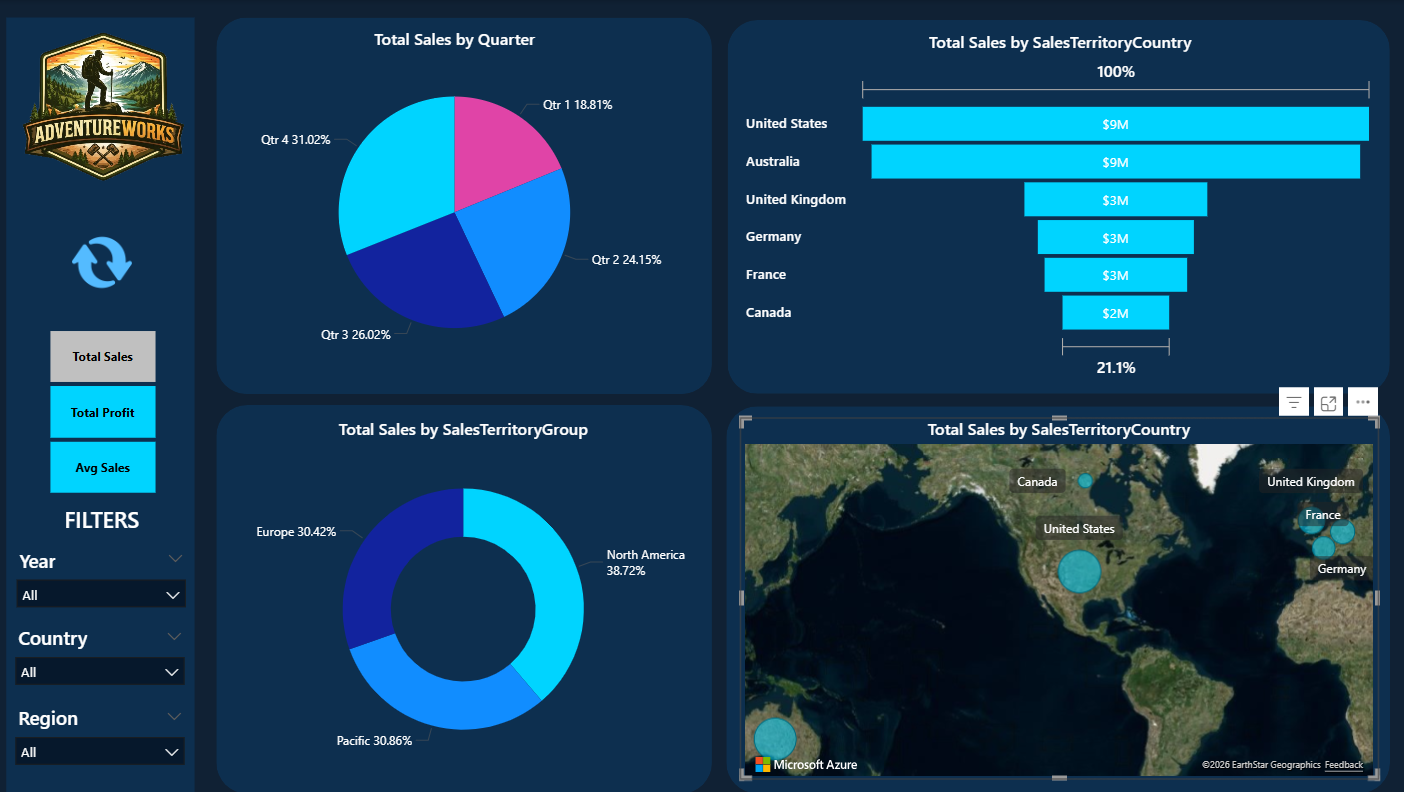

Layout of this report page (visuals, bound fields, positions):
{"tool":"powerbi","page":{"name":"Dahshboard_2","canvas":[1400,800],"ordinal":1},"visuals":[{"type":"shape","box":[218.5,17.4,490.6,372.7],"z":0},{"type":"shape","box":[218.5,400.8,490.6,384.7],"z":1000},{"type":"donutChart","fields":{"Y":["Sales.Total Sales"],"Category":["DimSalesTerritory.SalesTerritoryGroup Hierarchy.SalesTerritoryGroup","DimSalesTerritory.SalesTerritoryGroup Hierarchy.SalesTerritoryRegion","DimSalesTerritory.SalesTerritoryGroup Hierarchy.SalesTerritoryCountry"]},"box":[227.9,412.9,471.9,357.9],"z":2000},{"type":"pieChart","fields":{"Y":["Sales.Total Sales"],"Category":["Sales.OrderDate.Variation.Date Hierarchy.Year","Sales.OrderDate.Variation.Date Hierarchy.Quarter"]},"box":[227.9,26.8,454.4,344.5],"z":3000},{"type":"shape","box":[10.7,17.4,186.3,768.1],"z":4000},{"type":"shape","box":[725.2,20.1,655.5,370],"z":5000},{"type":"funnel","fields":{"Y":["Sales.Total Sales"],"Category":["DimSalesTerritory.SalesTerritoryCountry"]},"box":[738.6,29.5,631.4,351.2],"z":6000},{"type":"slicer","fields":{"Values":["Sales.OrderDate.Variation.Date Hierarchy.Year"]},"box":[10.7,536.2,187.7,77.7],"z":7000},{"type":"slicer","fields":{"Values":["DimSalesTerritory.SalesTerritoryCountry"]},"box":[9.4,613.9,187.7,79.1],"z":8000},{"type":"slicer","fields":{"Values":["DimSalesTerritory.SalesTerritoryRegion"]},"box":[9.4,693,187.7,77.7],"z":9000},{"type":"shape","box":[723.9,402.1,656.8,383.4],"z":10000},{"type":"azureMap","fields":{"Size":["Sales.Total Sales"],"Category":["DimSalesTerritory.SalesTerritoryCountry"]},"box":[737.3,412.9,631.4,359.3],"z":11000},{"type":"slicer","fields":{"Values":["Parameter.Parameter"]},"box":[28.2,320.4,154.2,174.3],"z":12000},{"type":"textbox","box":[12.1,494.6,186.3,41.6],"z":13000},{"type":"image","box":[48.3,230.6,115.3,59],"z":14000},{"type":"image","box":[10.7,20.1,191.7,172.9],"z":15000}]}

Visuals, with their boxes in screenshot pixels (x1, y1, x2, y2), scaled from the page's 1400x800 canvas onto the 1404x792 screenshot:
shape: x1=219, y1=17, x2=711, y2=386
shape: x1=219, y1=397, x2=711, y2=778
donutChart - Sales.Total Sales x DimSalesTerritory.SalesTerritoryGroup Hierarchy.SalesTerritoryGroup: x1=229, y1=409, x2=702, y2=763
pieChart - Sales.Total Sales x Sales.OrderDate.Variation.Date Hierarchy.Year: x1=229, y1=27, x2=684, y2=368
shape: x1=11, y1=17, x2=198, y2=778
shape: x1=727, y1=20, x2=1385, y2=386
funnel - Sales.Total Sales x DimSalesTerritory.SalesTerritoryCountry: x1=741, y1=29, x2=1374, y2=377
slicer - Sales.OrderDate.Variation.Date Hierarchy.Year: x1=11, y1=531, x2=199, y2=608
slicer - DimSalesTerritory.SalesTerritoryCountry: x1=9, y1=608, x2=198, y2=686
slicer - DimSalesTerritory.SalesTerritoryRegion: x1=9, y1=686, x2=198, y2=763
shape: x1=726, y1=398, x2=1385, y2=778
azureMap - Sales.Total Sales x DimSalesTerritory.SalesTerritoryCountry: x1=739, y1=409, x2=1373, y2=764
slicer - Parameter.Parameter: x1=28, y1=317, x2=183, y2=490
textbox: x1=12, y1=490, x2=199, y2=531
image: x1=48, y1=228, x2=164, y2=287
image: x1=11, y1=20, x2=203, y2=191
